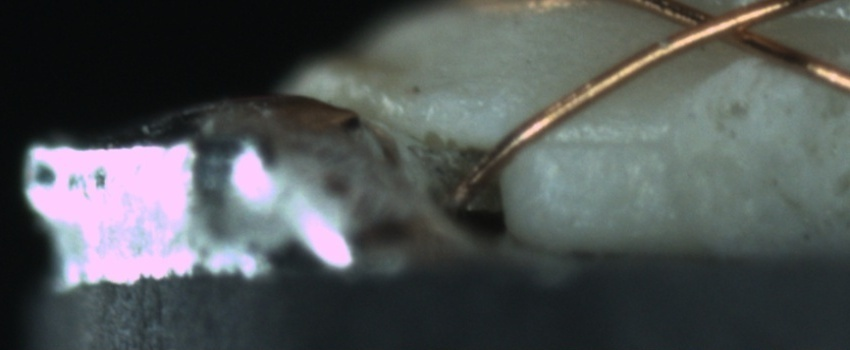CL: (654, 2, 796, 54)
DL: (533, 110, 671, 172)
